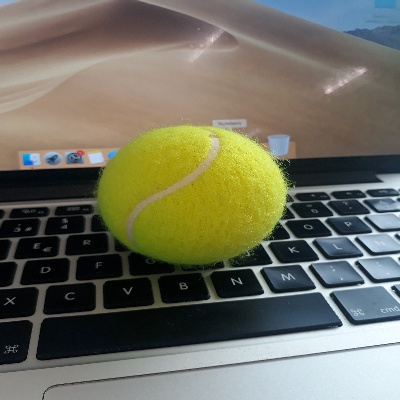Ball: (96, 125, 287, 265)
